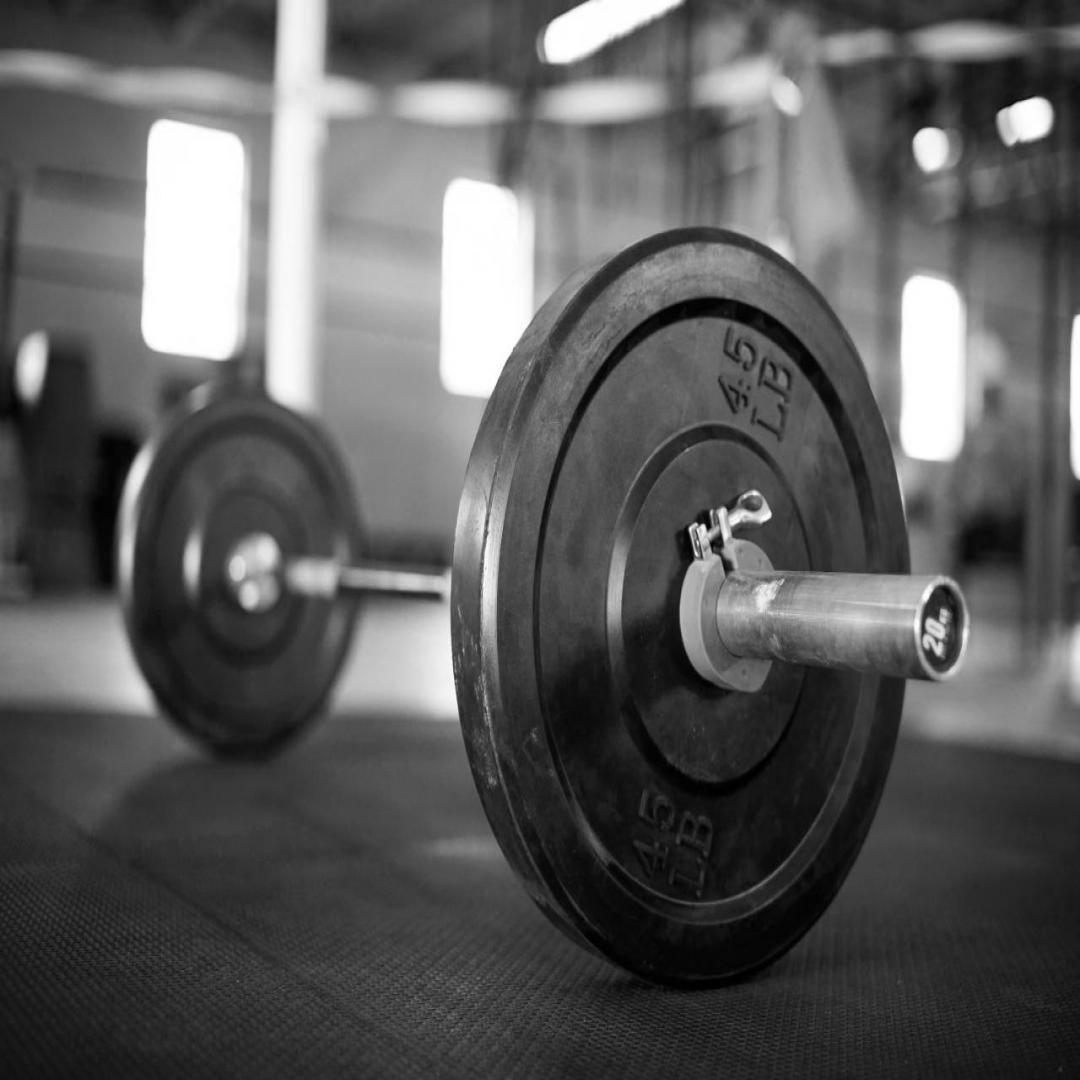Bar: (916, 575, 968, 685)
Barbell: (491, 227, 910, 986)
